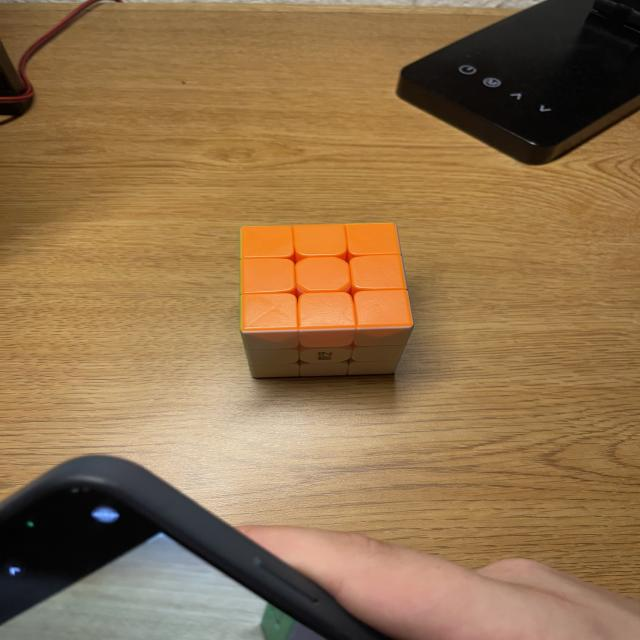Rubiks Cube: (242, 222, 415, 379)
